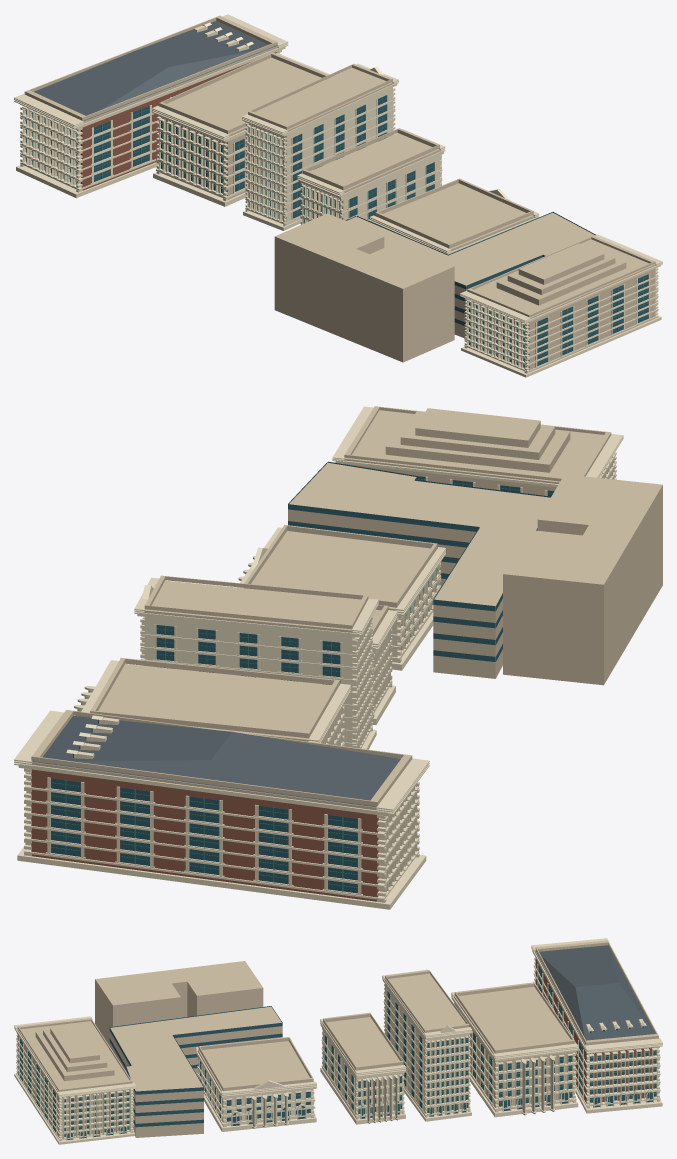
File: city_-2_0.glb
The picture shows the model from 3 angles, top to bottom: view 1: azimuth 30°, elevation 25°; view 2: azimuth 150°, elevation 25°; view 3: azimuth 270°, elevation 25°; orthographic projection. The views are drawn at different scales.
Visible parts, largest first — view 1: city_-2_0; view 2: city_-2_0; view 3: city_-2_0.
Part boxes in pixels (x1,y1,x2,y2): city_-2_0: (14,14,662,377); city_-2_0: (14,406,662,909); city_-2_0: (14,938,662,1144).
Size of the model in its own units: 113 by 34 by 218.
